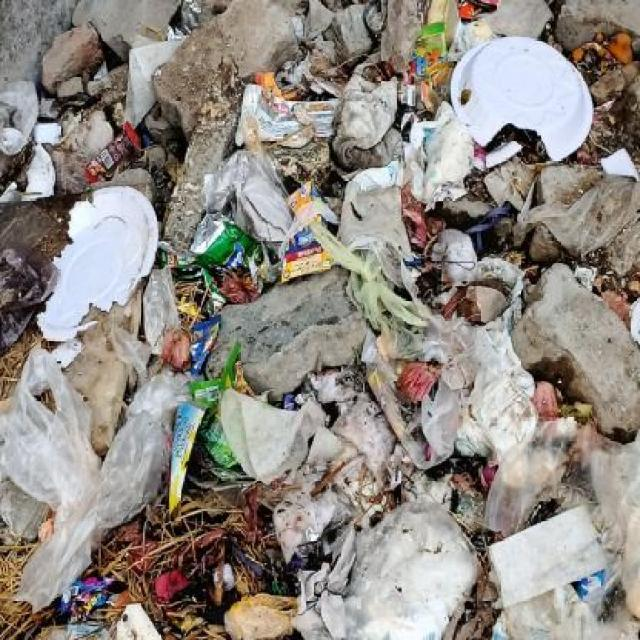garbage: (3, 3, 639, 638)
